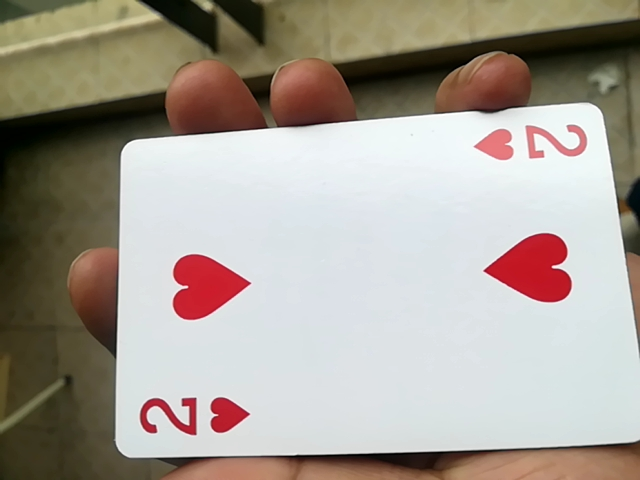hx 2: (93, 108, 635, 474)
